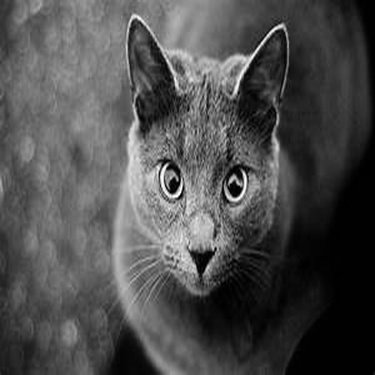cat: (112, 2, 365, 367)
